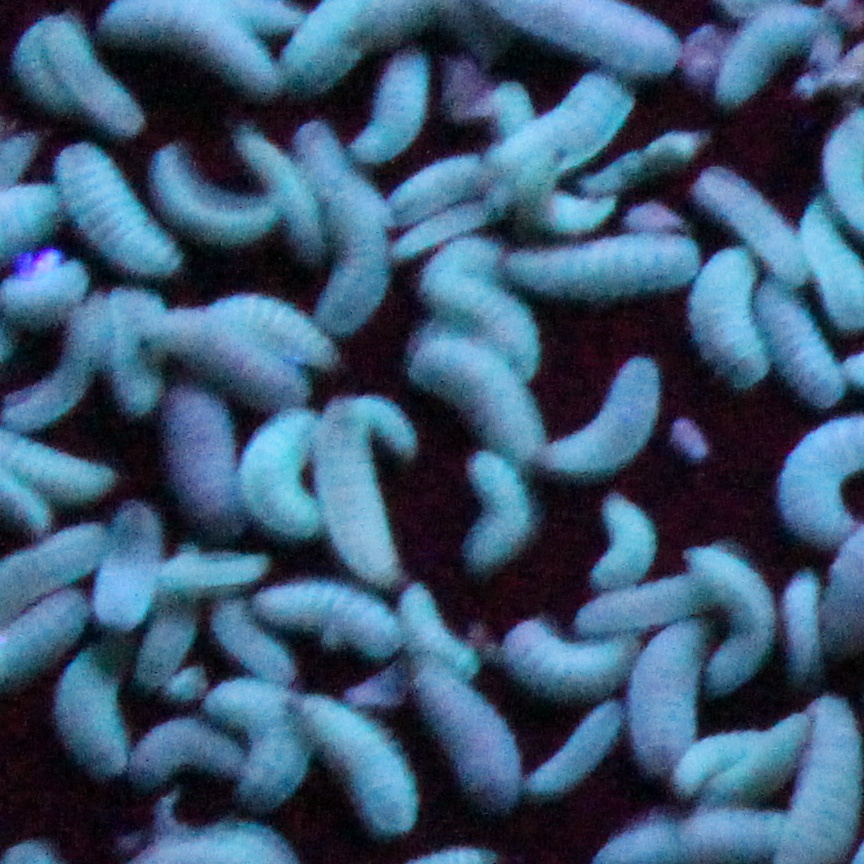larve: (411, 662, 524, 808), (299, 694, 413, 838), (418, 331, 542, 462), (14, 21, 133, 130), (58, 151, 166, 269), (488, 79, 626, 171), (321, 403, 394, 573), (548, 368, 662, 475), (213, 682, 294, 810), (632, 621, 701, 770), (694, 549, 767, 689), (317, 151, 377, 320), (699, 171, 799, 270), (157, 148, 272, 234), (244, 129, 323, 254), (716, 13, 830, 98), (169, 396, 237, 538), (428, 245, 530, 339), (257, 584, 392, 655), (509, 622, 626, 703), (521, 237, 687, 294), (712, 714, 812, 806), (21, 327, 112, 425), (248, 415, 317, 539), (58, 652, 125, 775), (759, 288, 830, 403), (356, 49, 428, 160), (202, 300, 323, 364), (534, 710, 620, 797), (397, 155, 493, 222), (468, 464, 525, 569), (710, 258, 756, 384), (206, 607, 287, 676), (104, 515, 155, 623), (110, 293, 158, 404), (398, 593, 469, 668), (775, 574, 822, 687), (674, 732, 746, 794), (141, 610, 195, 689), (601, 500, 652, 583), (571, 592, 696, 624), (140, 725, 219, 775), (13, 266, 85, 318), (157, 556, 262, 588)
